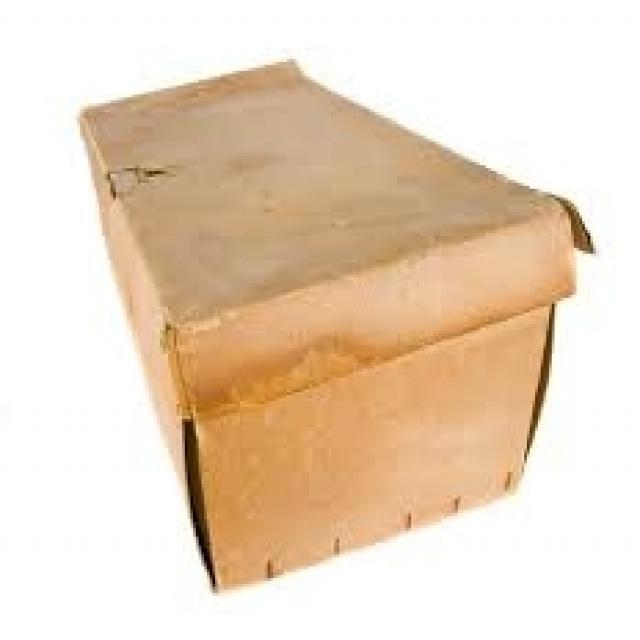cardboard paper: (80, 61, 590, 585)
